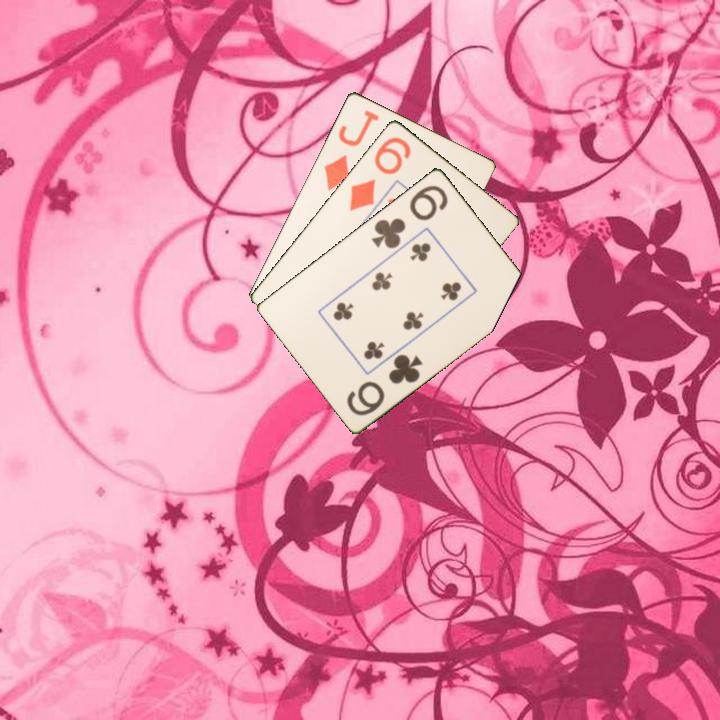6c: (368, 181, 451, 251), (343, 350, 426, 419)
6d: (346, 133, 414, 214)
Jd: (320, 106, 382, 193)
